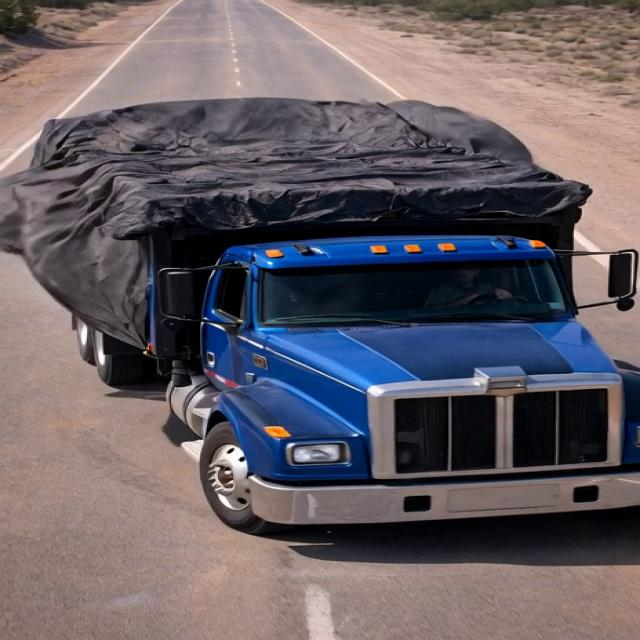Box: (42, 99, 591, 207)
Truck: (19, 78, 640, 528)
